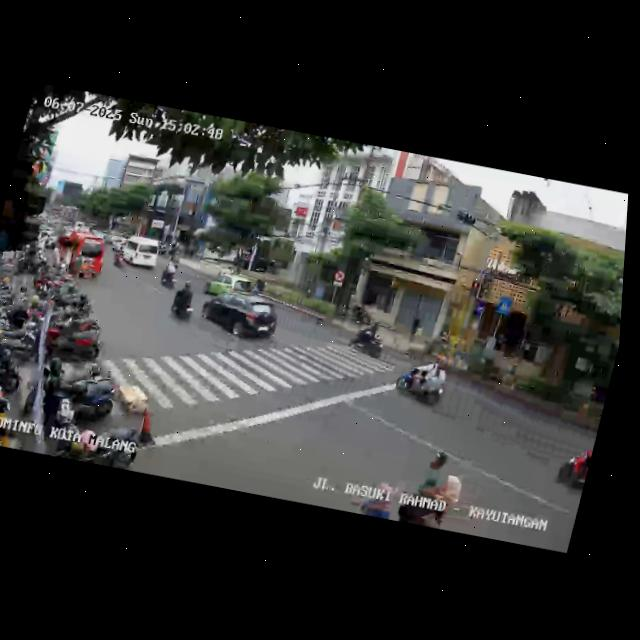car: (194, 287, 286, 350), (49, 226, 111, 285), (112, 233, 163, 271), (201, 269, 255, 303)
motorcycle: (391, 350, 455, 413), (550, 437, 595, 497), (347, 317, 390, 364), (167, 279, 199, 324), (158, 256, 182, 291)
person: (433, 473, 464, 527), (417, 450, 449, 497)
